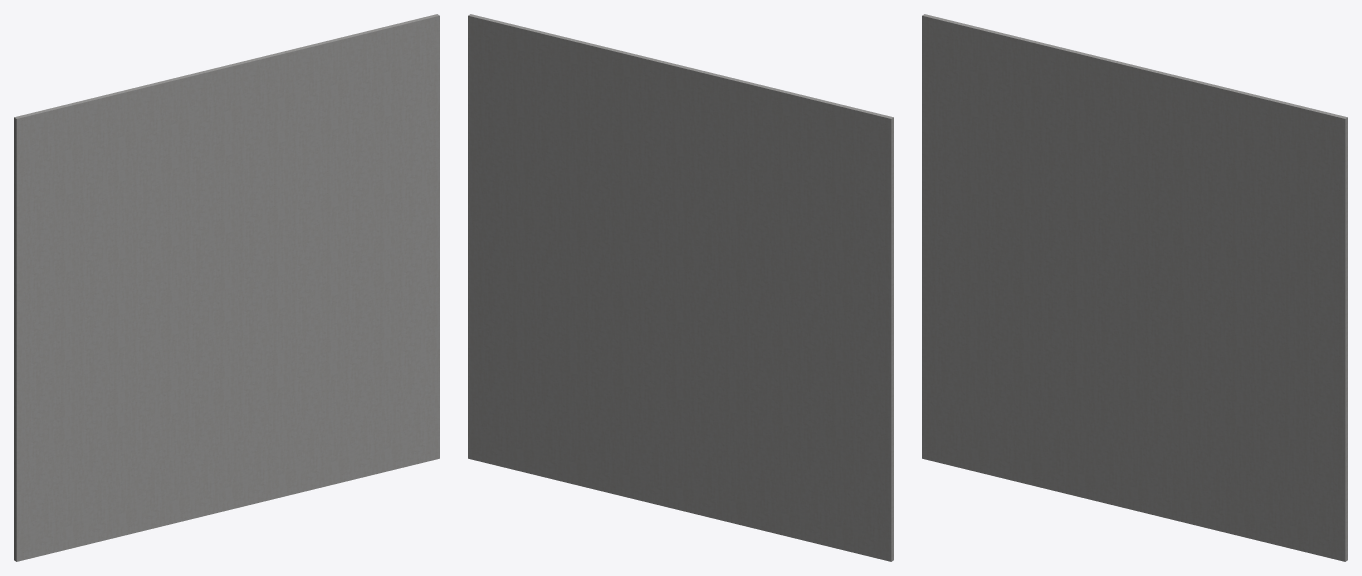
Rendered from 10x10WallNoTrim.fbx.
3 renders of one model, left to right at view 1: azimuth 30°, elevation 25°; view 2: azimuth 150°, elevation 25°; view 3: azimuth 330°, elevation 25°, orthographic.
Parts seen in each view (by area): view 1: Wall10x10; view 2: Wall10x10; view 3: Wall10x10.
Part boxes in pixels (x1,y1,x2,y2): Wall10x10: [14, 14, 439, 561]; Wall10x10: [468, 14, 893, 561]; Wall10x10: [922, 14, 1347, 561].
Size of the model in its own units: 1000 by 1000 by 9.75.
Materials: 1 (1 with a texture image).
